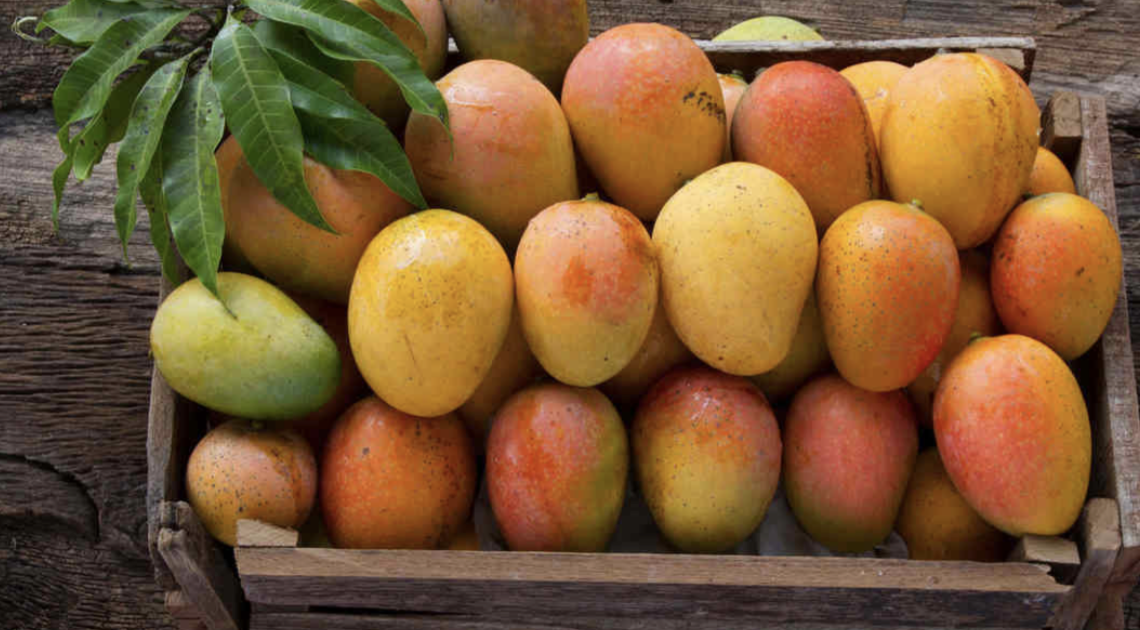mango: (639, 150, 836, 395), (860, 52, 1070, 276), (338, 194, 521, 424), (920, 314, 1102, 537), (540, 27, 734, 221), (807, 193, 992, 393), (485, 356, 642, 589), (129, 270, 330, 436), (497, 182, 661, 378), (763, 355, 919, 542), (981, 189, 1127, 378)
